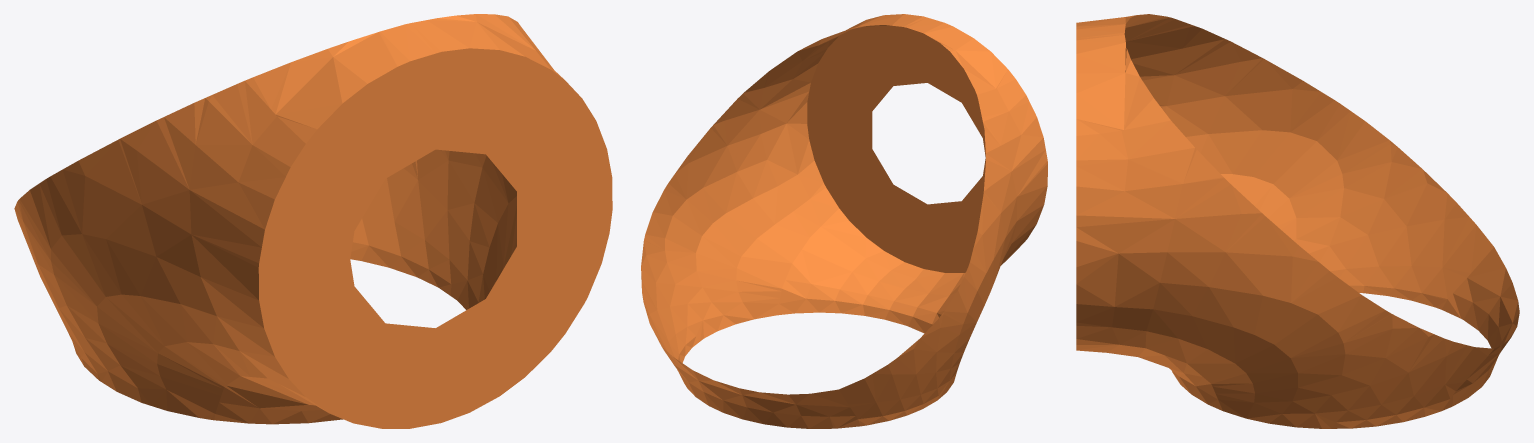
The model's file is kuka_URDF_link_7_vis_1.dae.
The picture shows the model from 3 angles, left to right: view 1: azimuth 30°, elevation 25°; view 2: azimuth 150°, elevation 25°; view 3: azimuth 270°, elevation 25°; orthographic projection. The views are drawn at different scales.
Visible parts, largest first — view 1: Node_0000020FCC58C670; view 2: Node_0000020FCC58C670; view 3: Node_0000020FCC58C670.
Boxes of the visible parts, <box> form: Node_0000020FCC58C670: <box>14,14,612,428</box>; Node_0000020FCC58C670: <box>641,14,1047,428</box>; Node_0000020FCC58C670: <box>1076,14,1519,428</box>.
Bounding box in the file's own units: 0.1321 × 0.1145 × 0.1404.
